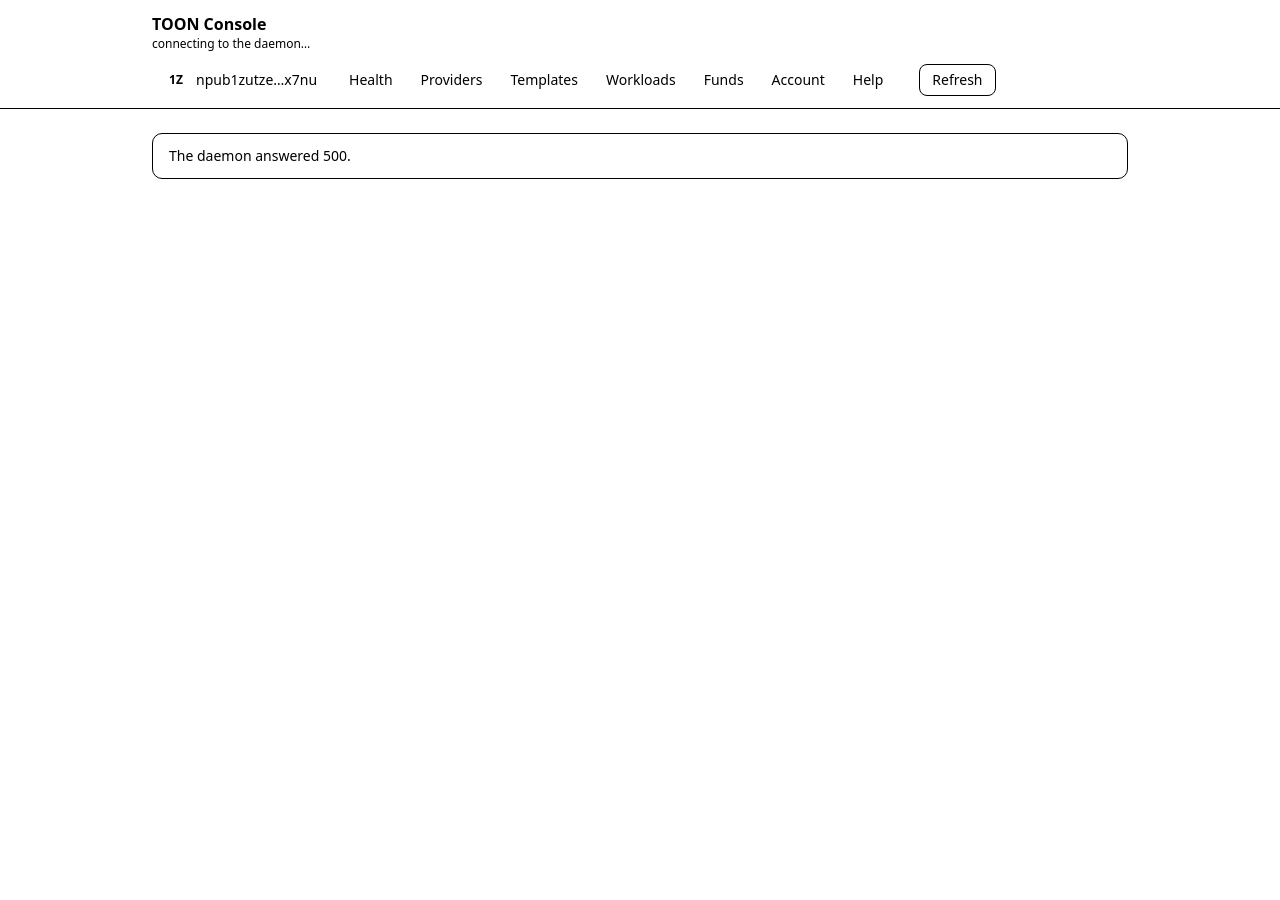
Test: the Chain Seed card › shows both addresses and the paths they came from
This screenshot has width=1280, height=900.
Click the button "Account" at (798, 80), box [760,64,837,96]
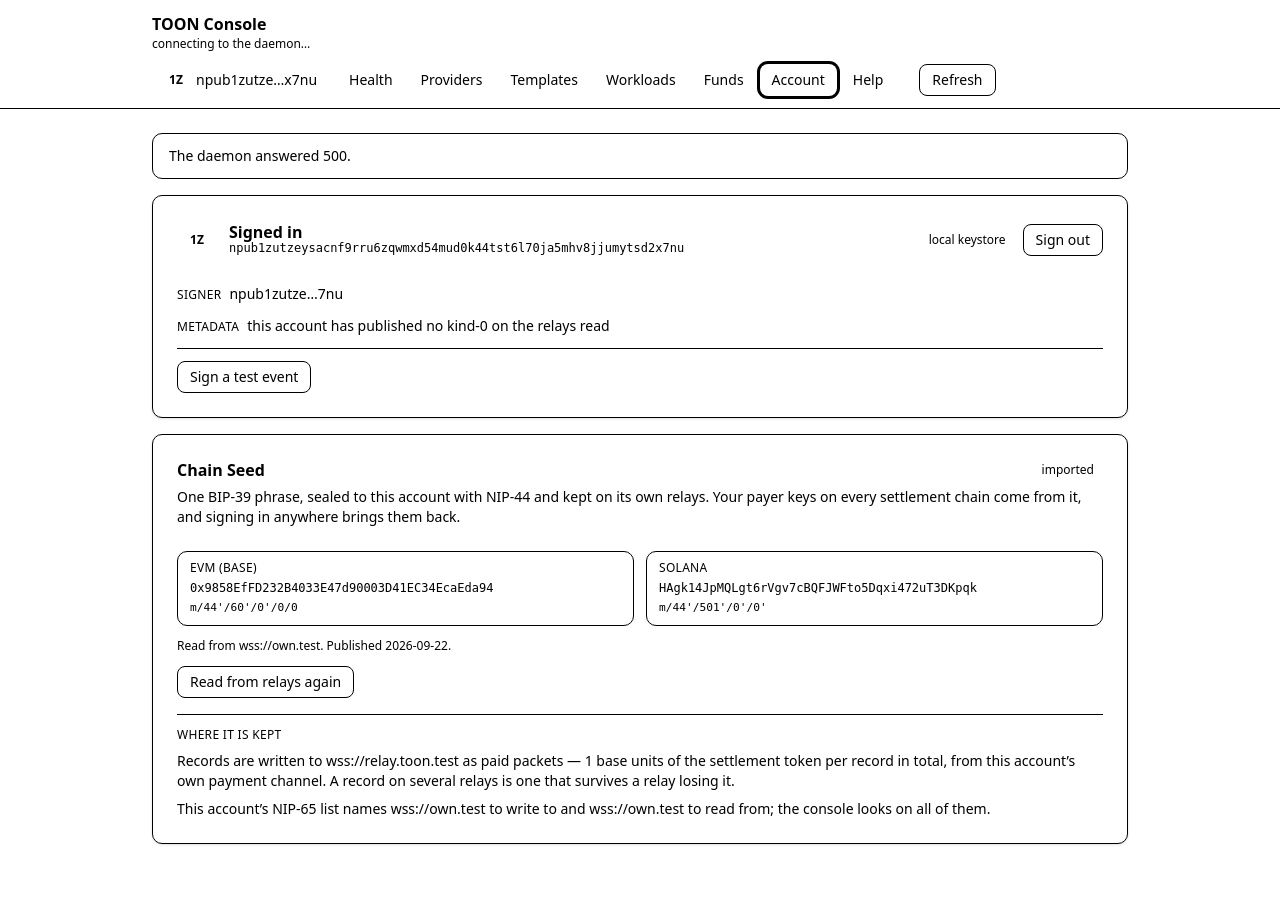
Expected: the text "0x9858EfFD232B4033E47d90003D41EC34EcaEda94" is shown, [190,581,493,595]
Expected: the text "HAgk14JpMQLgt6rVgv7cBQFJWFto5Dqxi472uT3DKpqk" is shown, [659,581,977,595]
Expected: the text "m/44'/60'/0'/0/0" is shown, [190,601,298,614]
